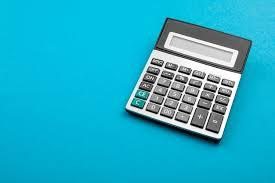Calculator: (125, 13, 255, 146)
